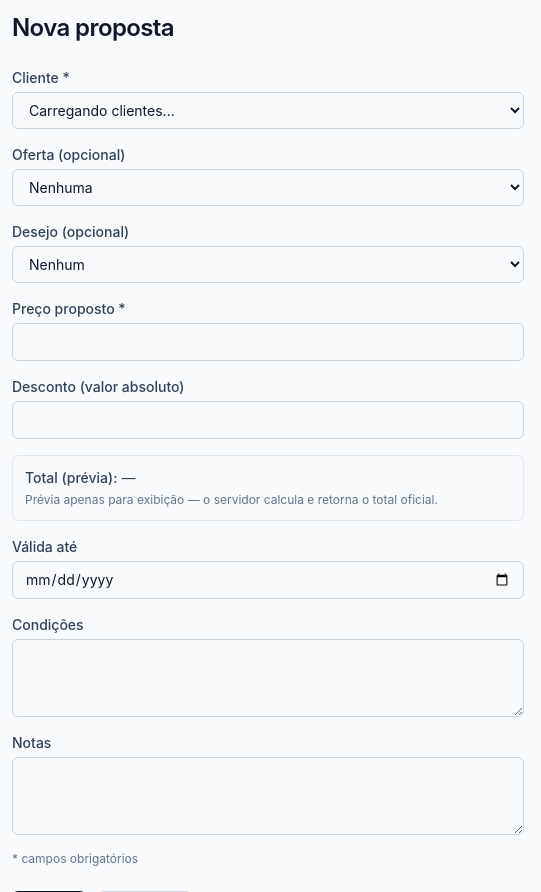
Test: ProposalFormPage › computes a live client-side total preview as the user types (never sent as total)
Select "c1" in the dropdown labelled "Cliente *" at (268, 110), box [12,92,524,129]
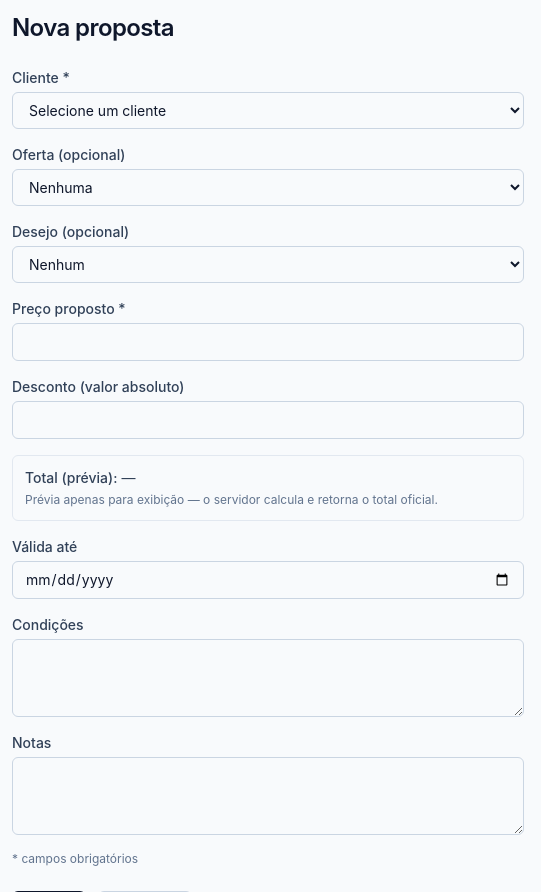
Type "100" into the number field labelled "Preço proposto *" at (268, 342), box [12,323,524,361]
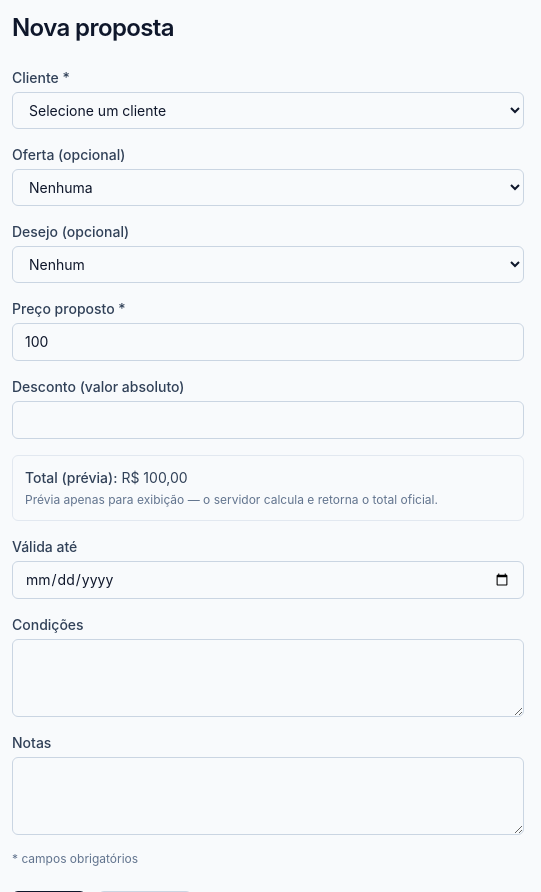
Type "10" into the number field labelled "Desconto (valor absoluto)" at (268, 420), box [12,401,524,439]
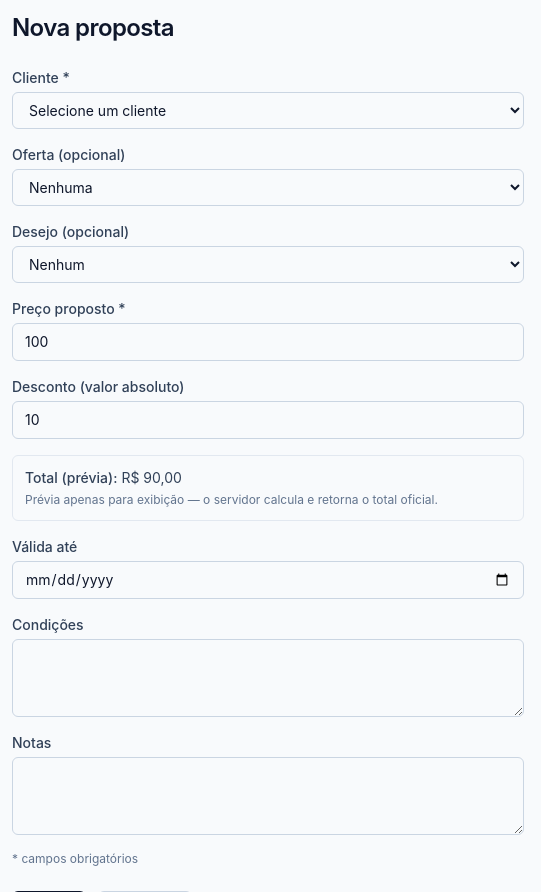
expect the text "Total (prévia):" is shown: met, box [25,469,118,486]
expect the text "R$ 90,00" is shown: met, box [121,469,182,486]
